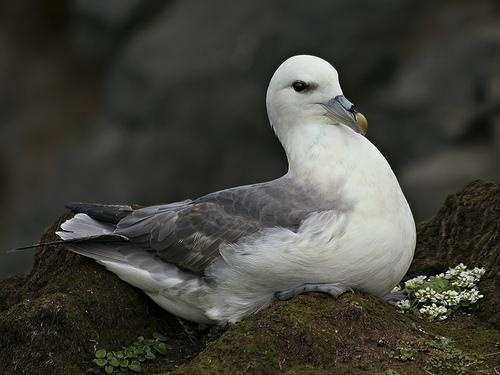bird: (50, 53, 417, 313)
